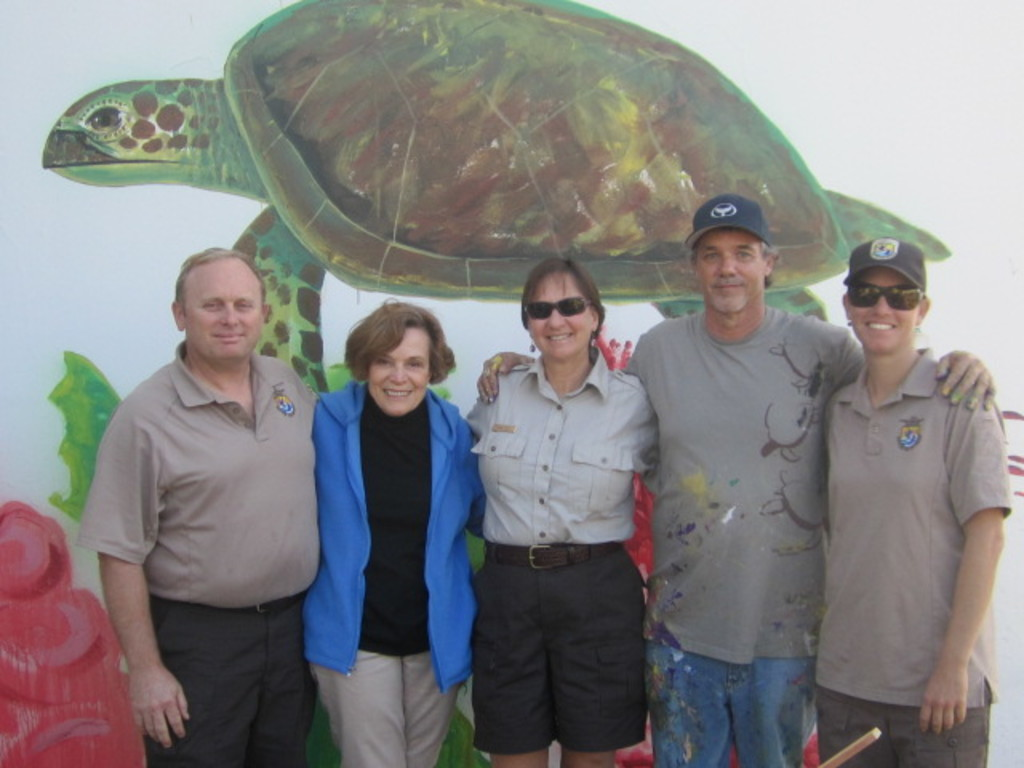Sea turtles: (36, 0, 948, 403)
